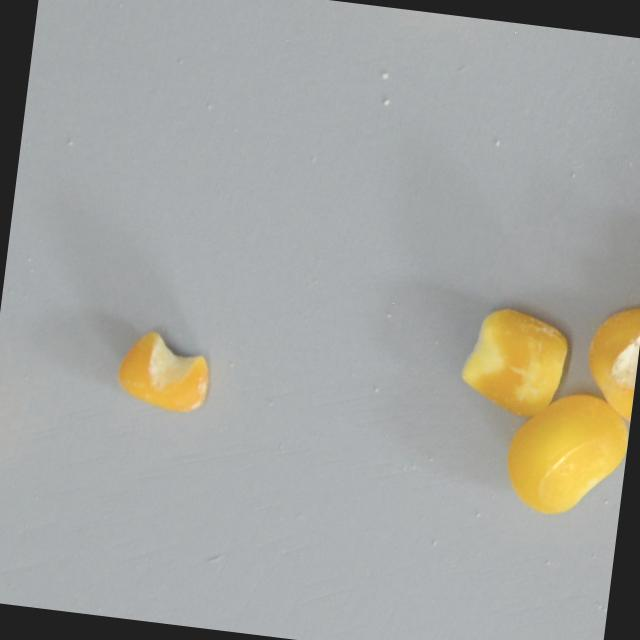no_canjicado: (497, 384, 631, 524), (454, 303, 570, 420), (109, 326, 213, 416), (575, 298, 640, 426)
